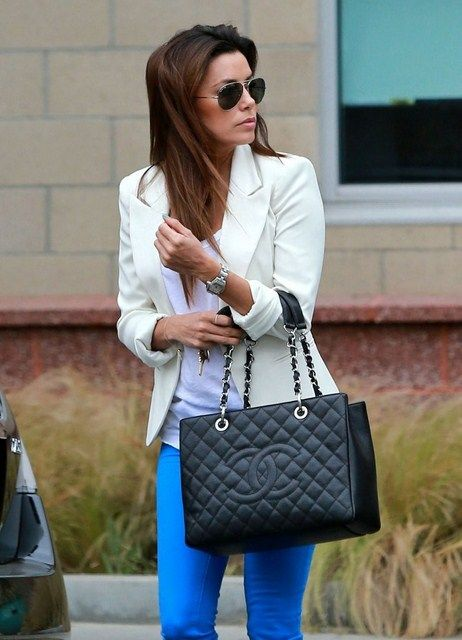channel: (179, 397, 386, 552), (204, 445, 314, 503), (219, 363, 241, 431)
